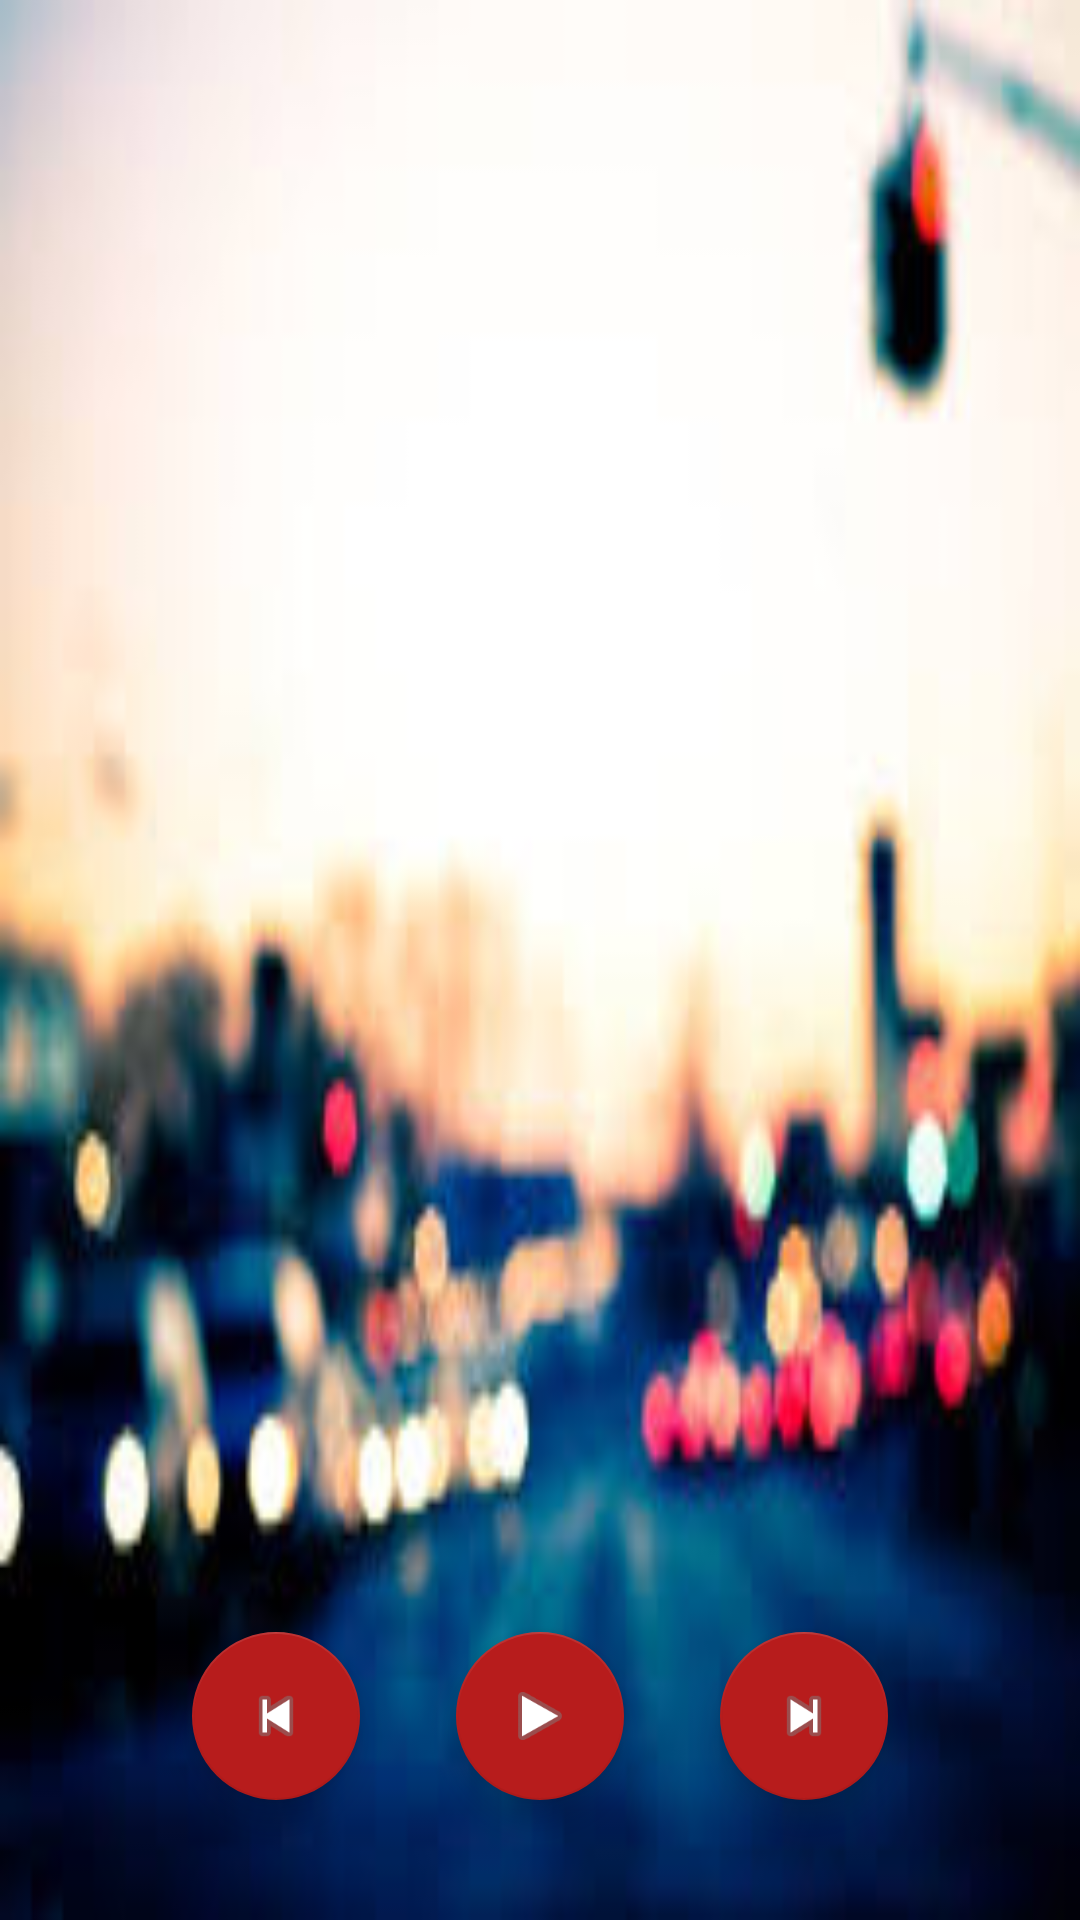

Icon click points for this 1080*1920 phone screenshot, format point (x, y):
next: point (804, 1716)
play: point (540, 1716)
previous: point (276, 1716)
